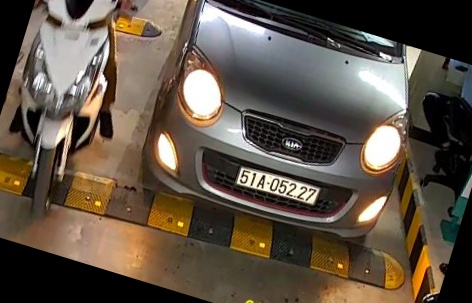plate: (228, 162, 321, 214)
